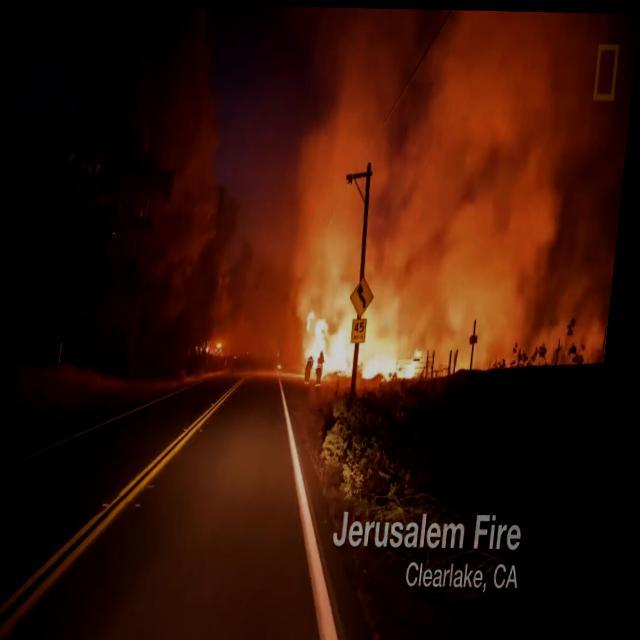Fire: (304, 304, 430, 382), (204, 338, 231, 355)
